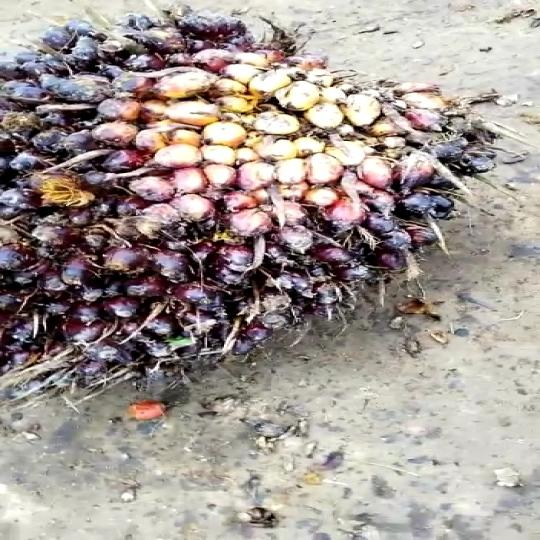mentah: (4, 4, 522, 403)
